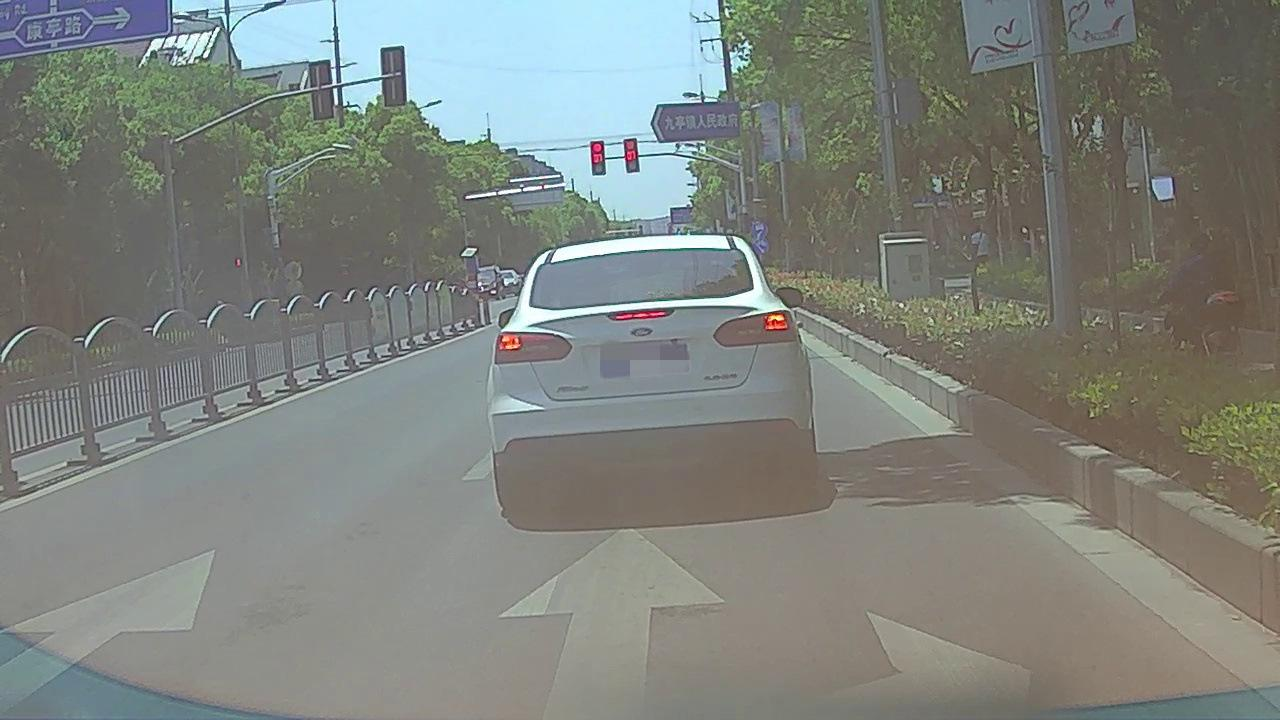traffic_light: (624, 139, 640, 173), (590, 142, 605, 175)
